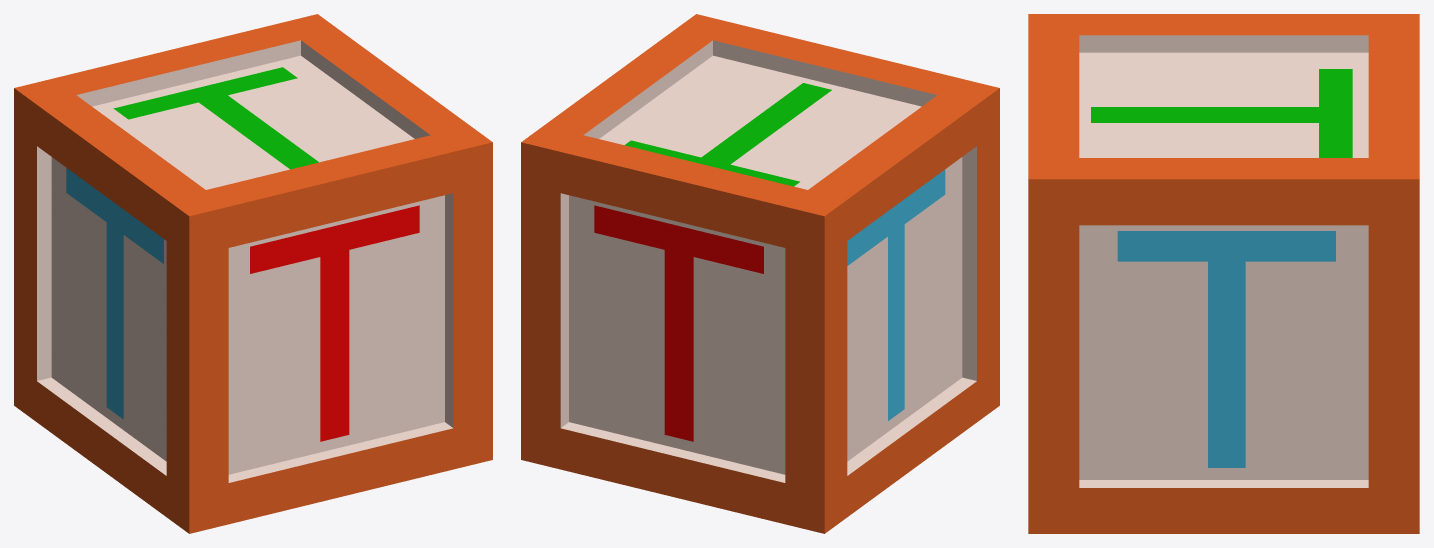
Rendered from Prop_KidsCube_T.fbx.
The picture shows the model from 3 angles, left to right: view 1: azimuth 30°, elevation 25°; view 2: azimuth 150°, elevation 25°; view 3: azimuth 270°, elevation 25°; orthographic projection. The views are drawn at different scales.
Visible parts, largest first — view 1: Prop_KidsCube_T; view 2: Prop_KidsCube_T; view 3: Prop_KidsCube_T.
Part boxes in pixels (x1,y1,x2,y2): Prop_KidsCube_T: [14, 14, 492, 533]; Prop_KidsCube_T: [521, 14, 999, 533]; Prop_KidsCube_T: [1028, 14, 1419, 533].
Bounding box in the file's own units: 20.93 × 20.93 × 20.93.
